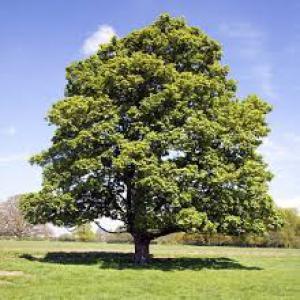Tree: (22, 12, 282, 257)
